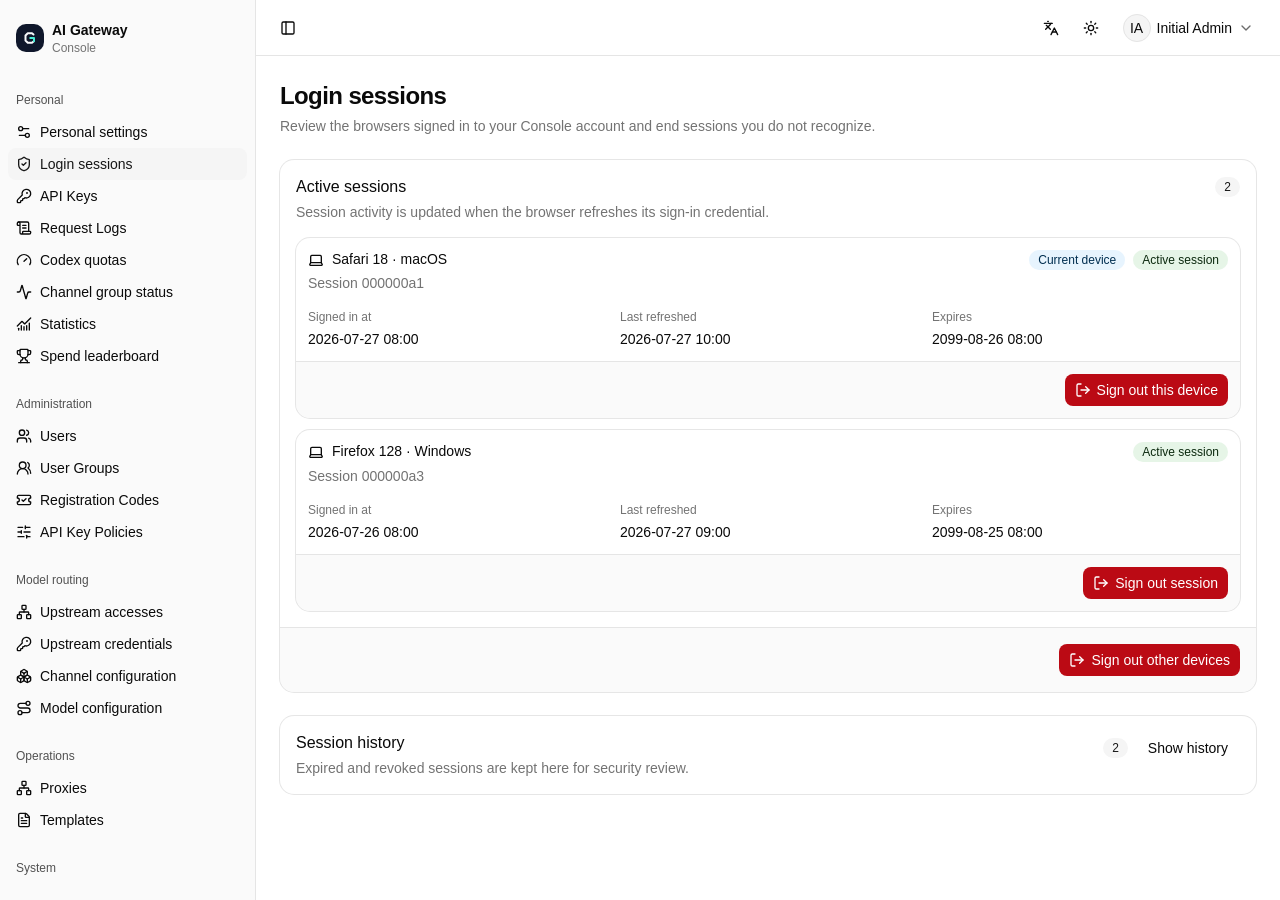
Test: SessionsPage › shows expired and revoked sessions only after history is expanded
The width and height of the screenshot is (1280, 900).
Click the button "Show history": (1188, 748) [1136, 732, 1240, 764]
(page scrolled)
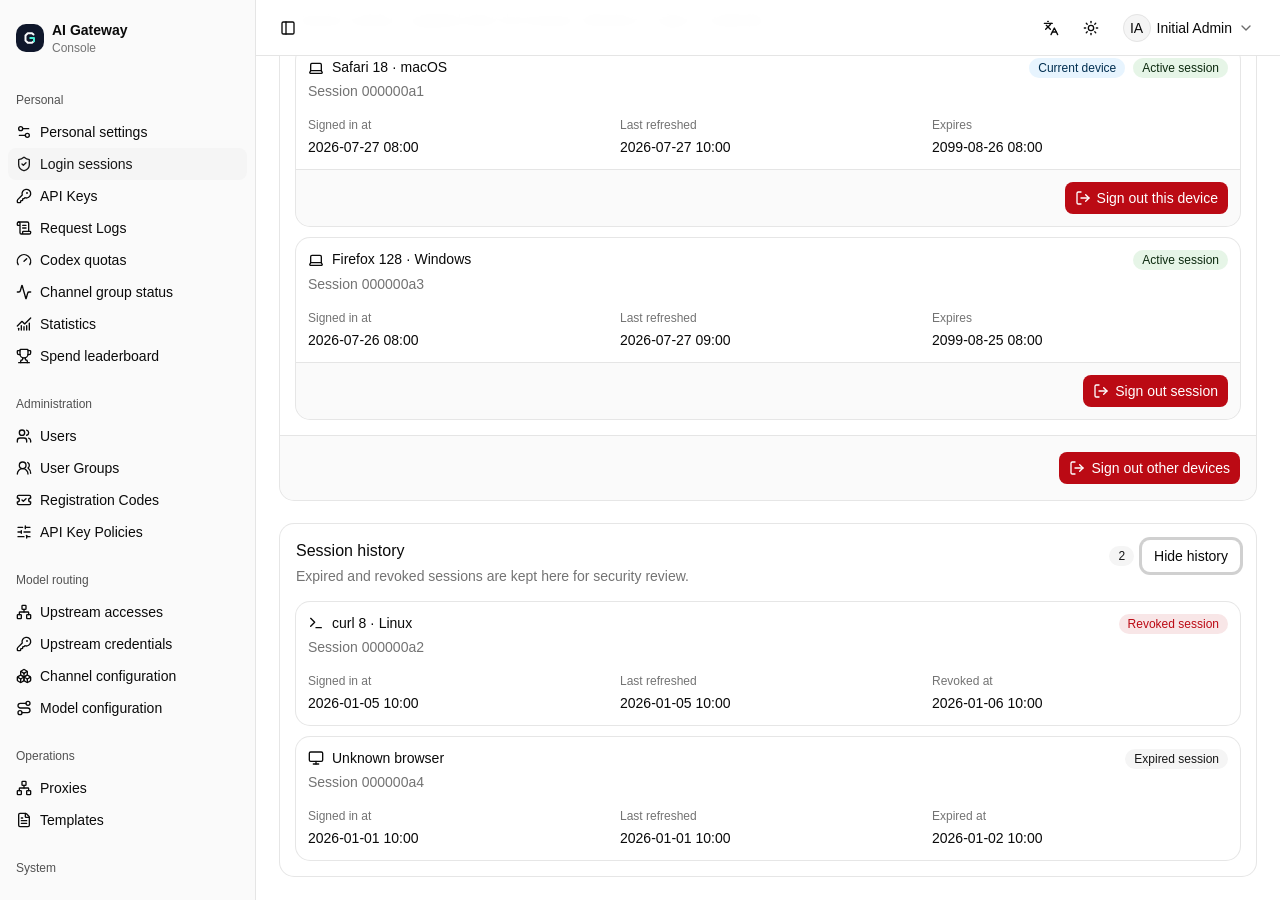
Result: the text "Revoked session" is shown at [1119, 614, 1228, 634]
Result: the text "Expired session" is shown at [1125, 749, 1228, 769]
Result: the text "curl 8 · Linux" is shown at [332, 614, 412, 633]
